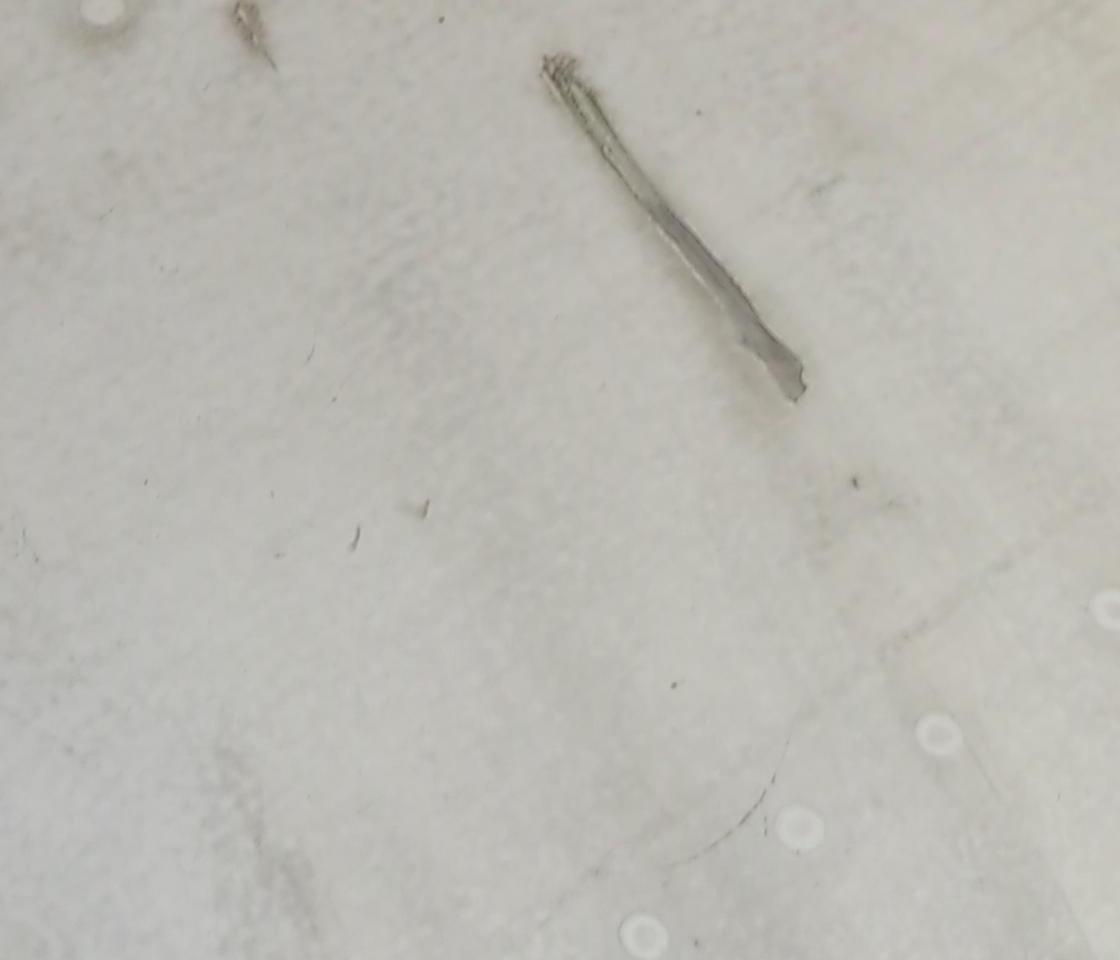scratch: (530, 51, 814, 410)
